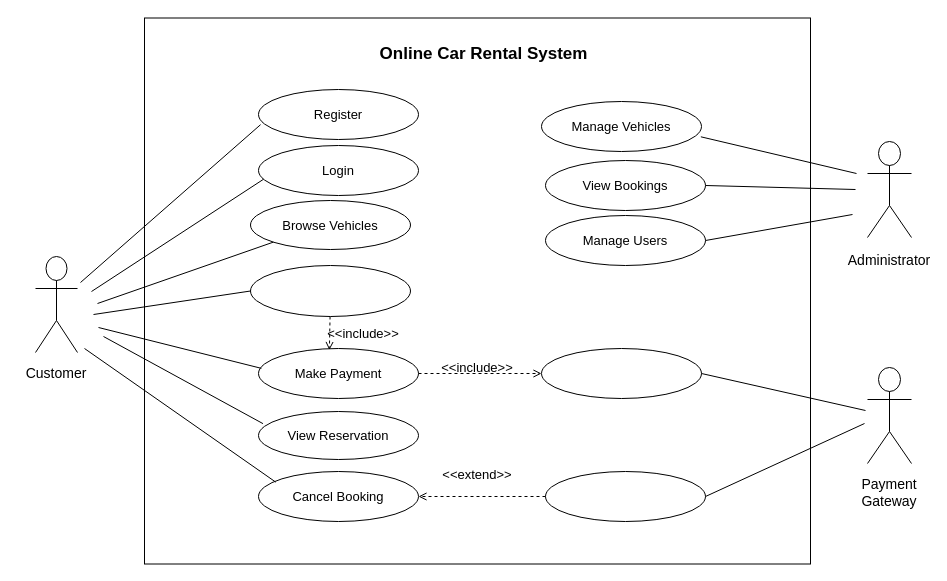
Some shapes in this 947 by 581 pixel diagram are drawn without their labels. The centre of each missing label's shape, as x and y in pixels:
"Book Vehicle" belongs at point 330,290.
"Process Payment" belongs at point 621,373.
"Request Refund" belongs at point 625,496.
